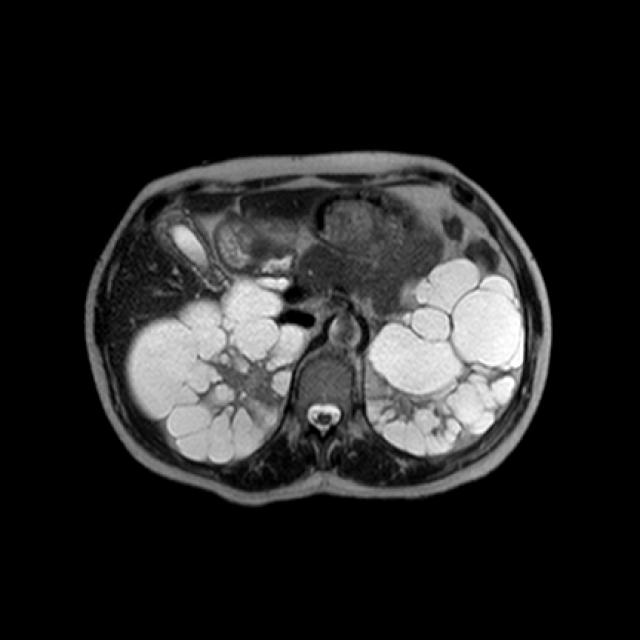sag: (128, 275, 306, 464)
sol: (364, 258, 527, 457)
